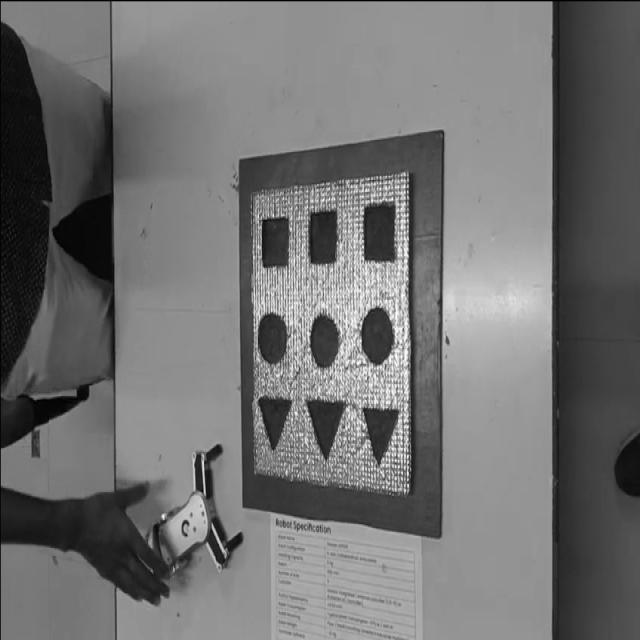mtcircle: (361, 306, 394, 364), (258, 312, 288, 365), (310, 314, 340, 366)
mtcube: (363, 203, 396, 264), (310, 209, 338, 265), (262, 217, 290, 268)
mttriangle: (306, 396, 346, 462), (362, 405, 401, 468), (258, 394, 292, 452)
wb: (249, 172, 414, 498)
